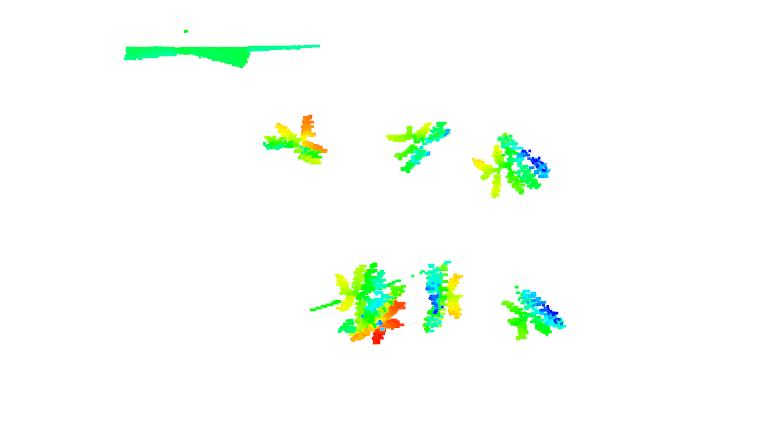chickpea: (334, 259, 407, 345), (469, 129, 553, 200), (258, 113, 333, 166), (501, 283, 569, 339), (384, 118, 455, 170), (420, 257, 469, 330)
